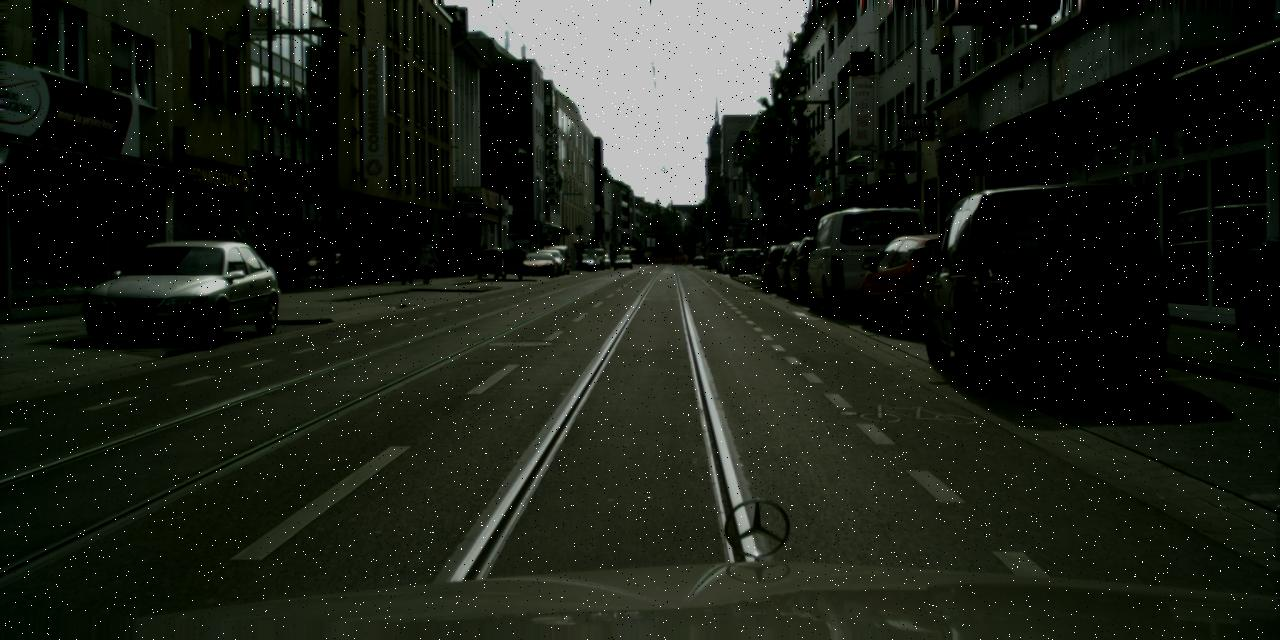ped: (223, 230, 254, 306), (415, 236, 434, 283), (397, 237, 415, 283), (463, 238, 478, 275), (480, 244, 488, 250), (483, 274, 488, 276)
